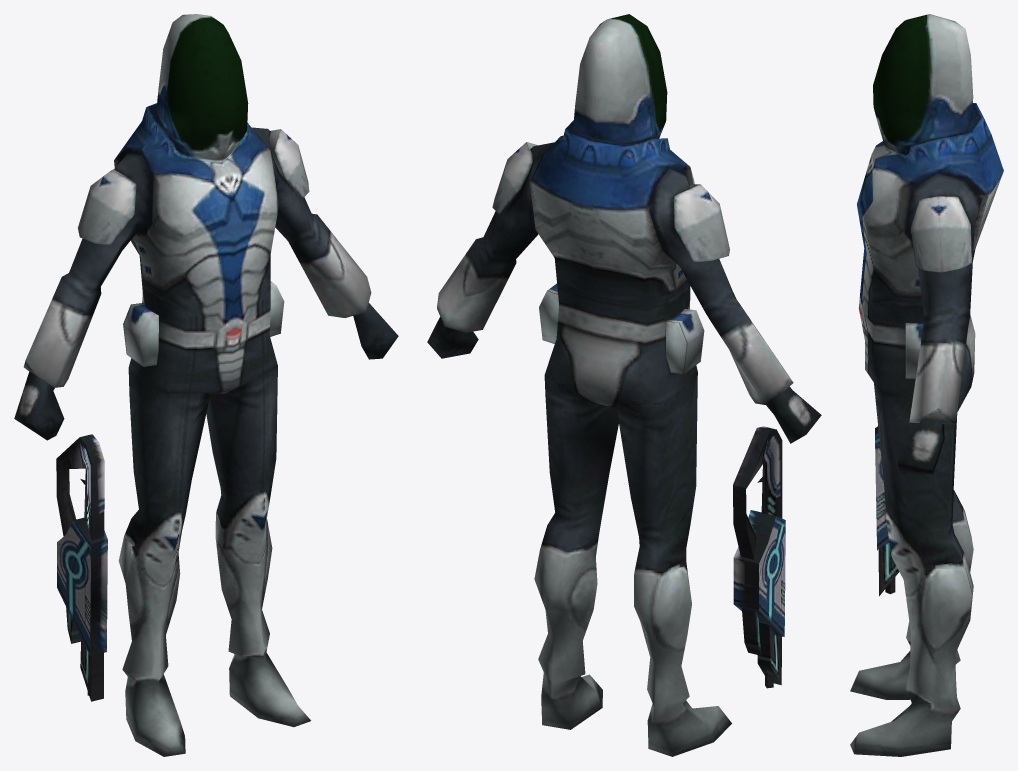
File: umbaran_soldier.fbx
3 renders of one model, left to right at view 1: azimuth 30°, elevation 25°; view 2: azimuth 150°, elevation 25°; view 3: azimuth 270°, elevation 25°, orthographic. The views are drawn at different scales.
Parts seen in each view (by area): view 1: rfl_clone_mesh_shadow; view 2: rfl_clone_mesh_shadow; view 3: rfl_clone_mesh_shadow.
Boxes of the visible parts, x1,y1,x2,y2 form: rfl_clone_mesh_shadow: [14, 14, 398, 756]; rfl_clone_mesh_shadow: [427, 14, 821, 756]; rfl_clone_mesh_shadow: [850, 14, 1003, 756].
Bounding box in the file's own units: 108 × 193 × 38.49.
